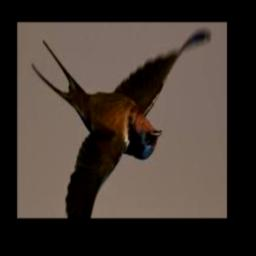Swallow: (32, 22, 213, 218)
